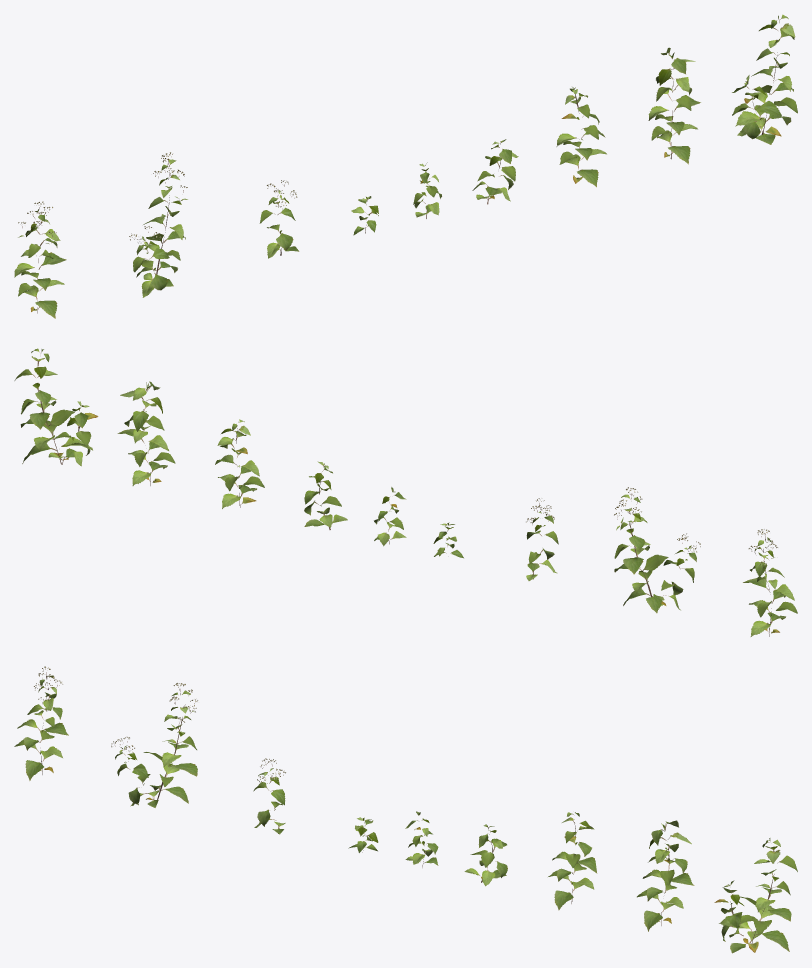
File: shrub_01.light.glb
3 views of the same model, one above another, from view 1: azimuth 30°, elevation 25°; view 2: azimuth 150°, elevation 25°; view 3: azimuth 330°, elevation 25° (orthographic). The views are drawn at different scales.
Visible parts, largest first — view 1: shrub_01_a; view 2: shrub_01_a; view 3: shrub_01_a.
Boxes of the visible parts, box(x1,y1,x2,y2) form: shrub_01_a: box(14, 14, 797, 318); shrub_01_a: box(14, 348, 797, 636); shrub_01_a: box(14, 666, 797, 953).
Size of the model in its own units: 2 by 0.3058 by 0.1682.
1 material, 1 textured.
